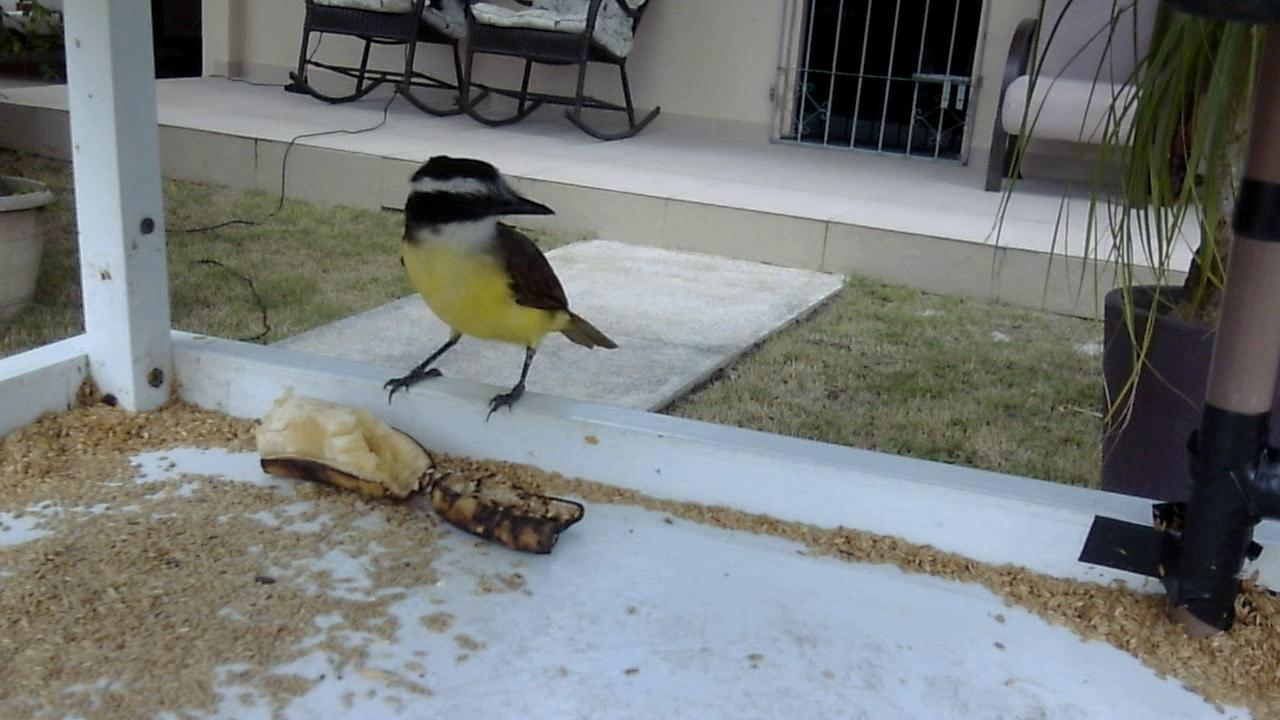bem_te_vi: (367, 146, 622, 431)
